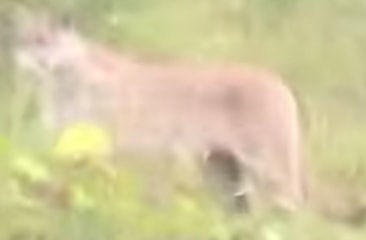Mountain Lion: (10, 5, 322, 228)
